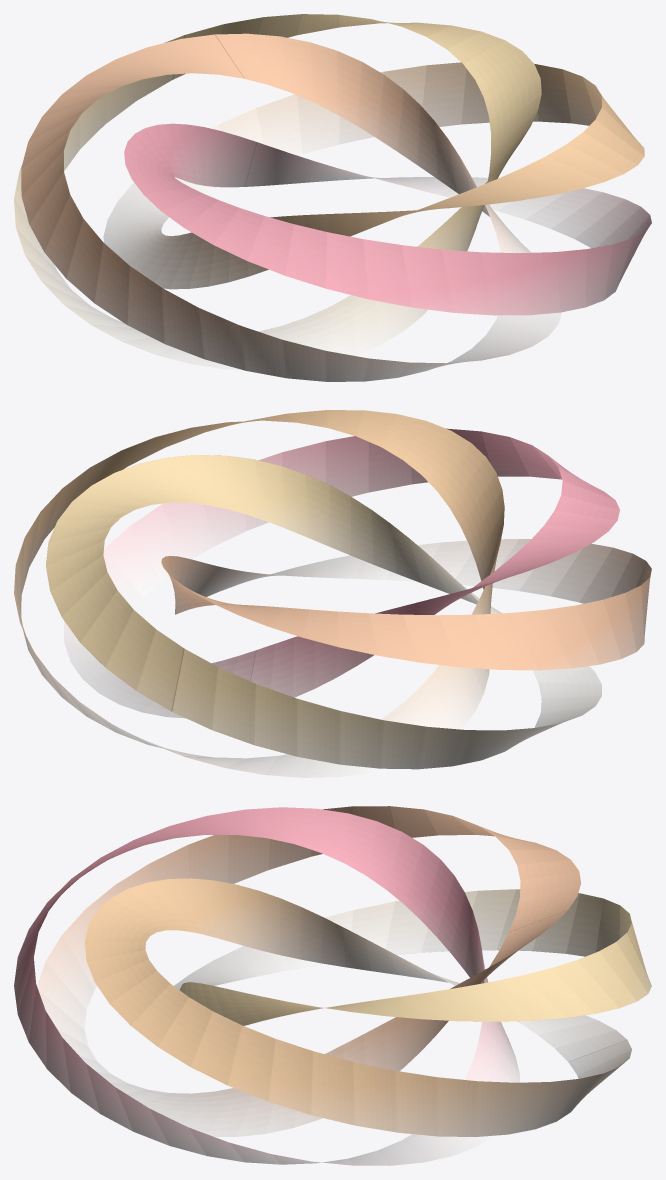
The model's file is ring-flower-ivory.glb.
3 views of the same model, one above another, from view 1: azimuth 30°, elevation 25°; view 2: azimuth 150°, elevation 25°; view 3: azimuth 270°, elevation 25° (orthographic).
Visible parts, largest first — view 1: Cylinder.001, Cylinder.004, Cylinder.003, Cylinder.002; view 2: Cylinder.002, Cylinder.001, Cylinder.004, Cylinder.003; view 3: Cylinder.003, Cylinder.004, Cylinder.001, Cylinder.002.
Boxes of the visible parts, x1,y1,x2,y2 form: Cylinder.001: [21, 33, 561, 381]; Cylinder.004: [124, 123, 651, 315]; Cylinder.003: [103, 62, 644, 289]; Cylinder.002: [14, 14, 541, 370]; Cylinder.002: [46, 455, 601, 769]; Cylinder.001: [161, 538, 651, 670]; Cylinder.004: [64, 428, 619, 718]; Cylinder.003: [14, 410, 504, 777]; Cylinder.003: [84, 878, 631, 1136]; Cylinder.004: [14, 807, 520, 1165]; Cylinder.001: [37, 806, 581, 1136]; Cylinder.002: [174, 889, 651, 1025].
Size of the model in its own units: 7.59 by 2 by 7.61.
4 materials, 4 textured.
